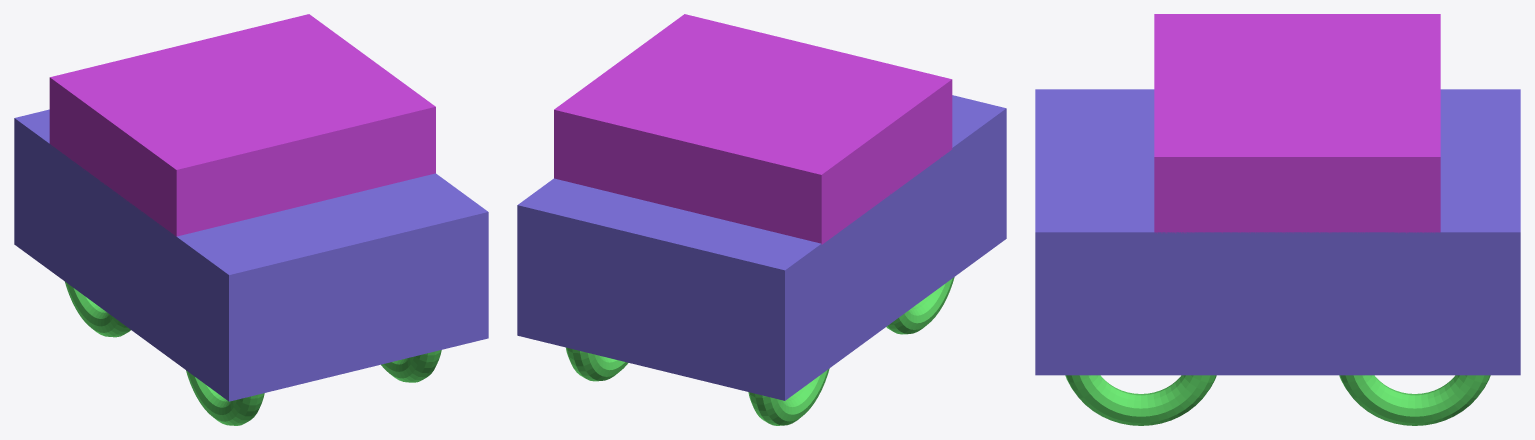
The model's file is car.glb.
The picture shows the model from 3 angles, left to right: view 1: azimuth 30°, elevation 25°; view 2: azimuth 150°, elevation 25°; view 3: azimuth 270°, elevation 25°; orthographic projection. The views are drawn at different scales.
Visible parts, largest first — view 1: Cube, 立方体, 环体; view 2: Cube, 立方体, 环体; view 3: Cube, 立方体, 环体.
Part boxes in pixels (box(x1,y1,x2,y2)): Cube: box(14, 109, 488, 401); 立方体: box(49, 14, 435, 236); 环体: box(65, 282, 441, 425); Cube: box(517, 95, 1006, 400); 立方体: box(554, 14, 952, 244); 环体: box(565, 277, 954, 425); Cube: box(1035, 89, 1520, 375); 立方体: box(1154, 14, 1440, 233); 环体: box(1065, 375, 1490, 425).
Size of the model in its own units: 2 by 1.89 by 2.87.
